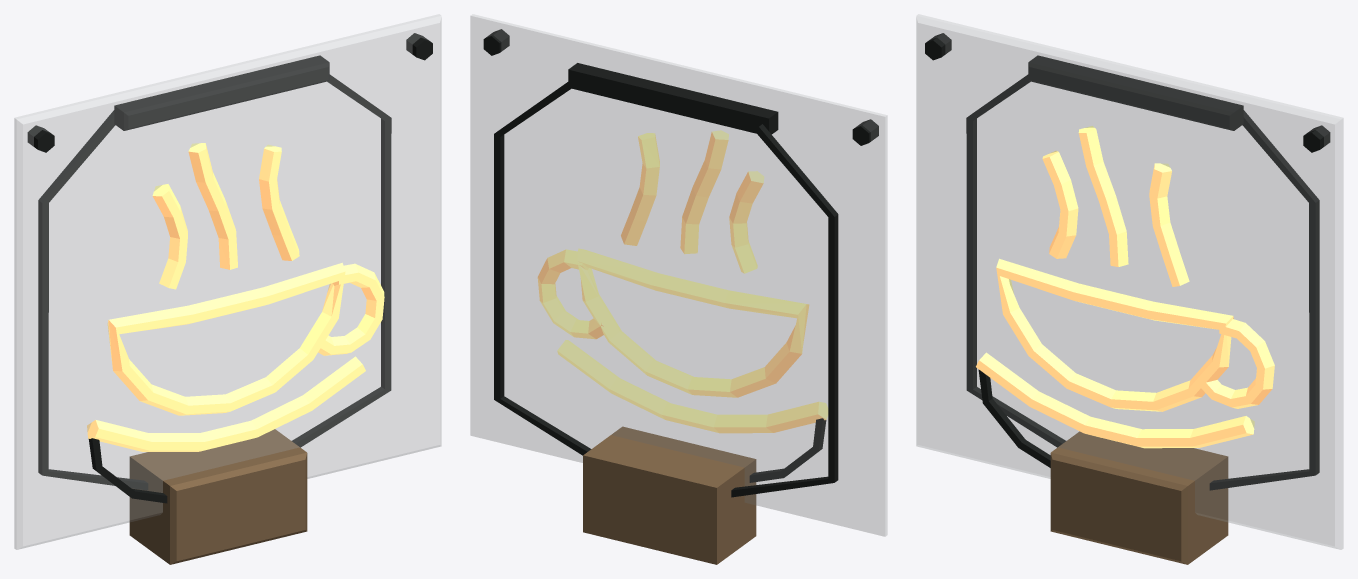
File: neon_sign.glb
3 views of the same model, side by side, from view 1: azimuth 30°, elevation 25°; view 2: azimuth 150°, elevation 25°; view 3: azimuth 330°, elevation 25° (orthographic). The views are drawn at different scales.
Parts seen in each view (by area): view 1: neon-window-sign; view 2: neon-window-sign; view 3: neon-window-sign.
Boxes of the visible parts, left/top/right/bottom form: neon-window-sign: left=14, top=14, right=441, bottom=564; neon-window-sign: left=470, top=14, right=887, bottom=564; neon-window-sign: left=916, top=14, right=1343, bottom=564.
Bounding box in the file's own units: 0.62 × 0.66 × 0.108.
